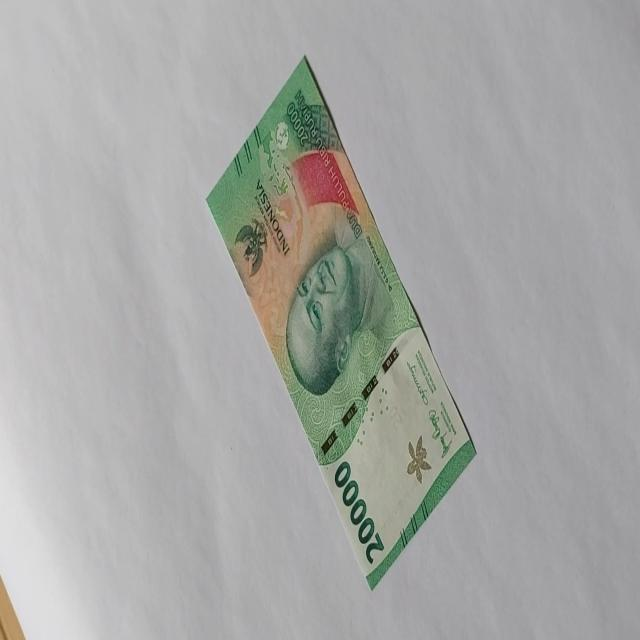dua puluh ribu rupiah: (205, 54, 478, 590)
